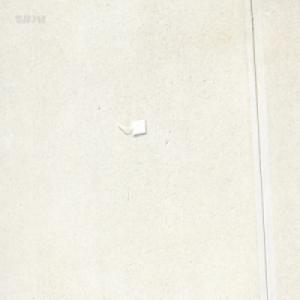LuggageTag: (116, 118, 146, 135)
